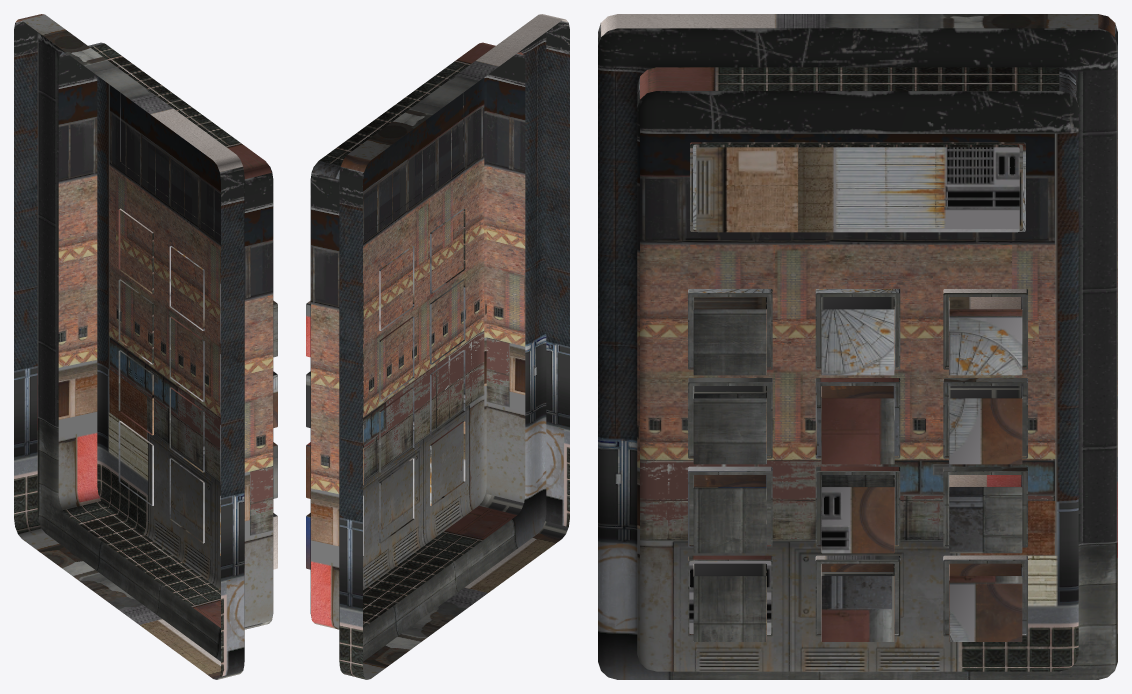
File: basic_door_keypadcodelock_free.obj
3 views of the same model, side by side, from view 1: azimuth 30°, elevation 25°; view 2: azimuth 150°, elevation 25°; view 3: azimuth 270°, elevation 25° (orthographic). The views are drawn at different scales.
Parts seen in each view (by area): view 1: obj1; view 2: obj1; view 3: obj1.
Part boxes in pixels (x1,y1,x2,y2): obj1: [14, 14, 277, 679]; obj1: [306, 14, 569, 679]; obj1: [598, 14, 1117, 679].
Size of the model in its own units: 0.5317 by 2.77 by 2.
